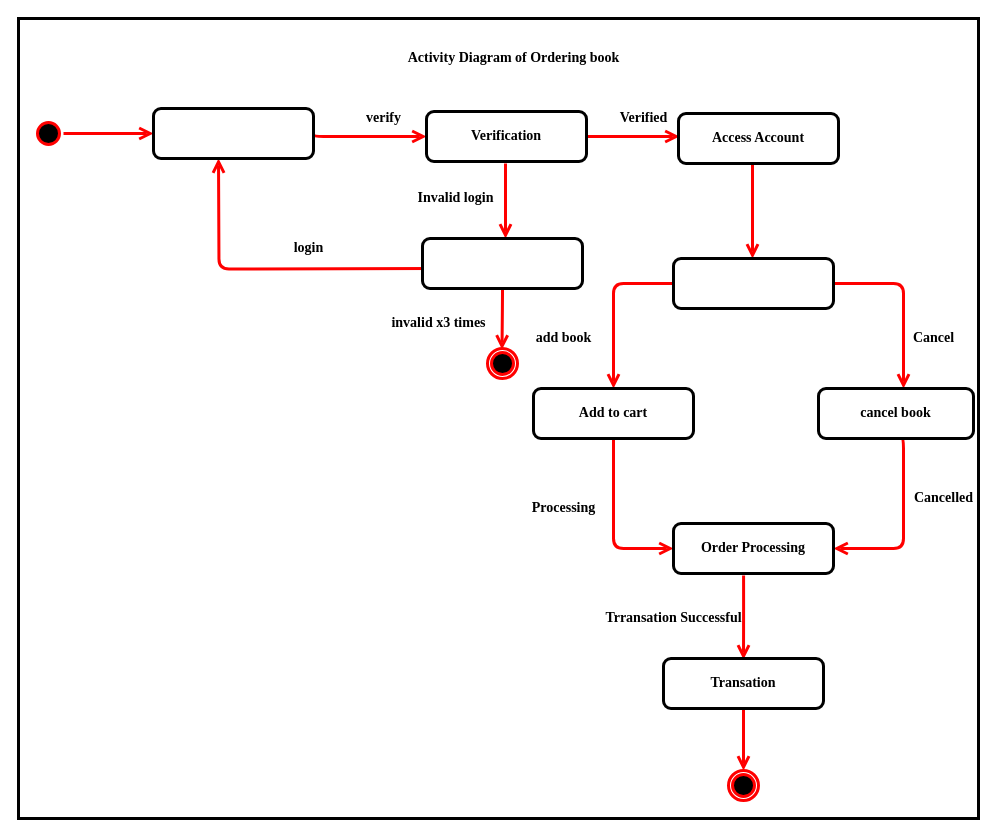
Image size: 997x837. Some labels were removed from this diagram. The box of each missing label's shape, as (x1, y1, x2, y2) in pixels:
Customer login: (152, 106, 314, 160)
Manage Account: (672, 256, 834, 310)
Re-login: (420, 236, 584, 290)
